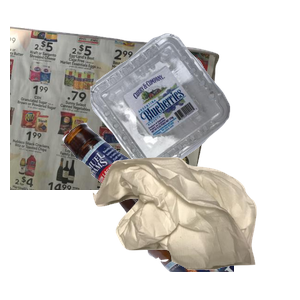glass: (60, 120, 300, 300)
paper: (10, 21, 222, 201)
plastic: (88, 31, 300, 198)
trash: (90, 155, 300, 300)
